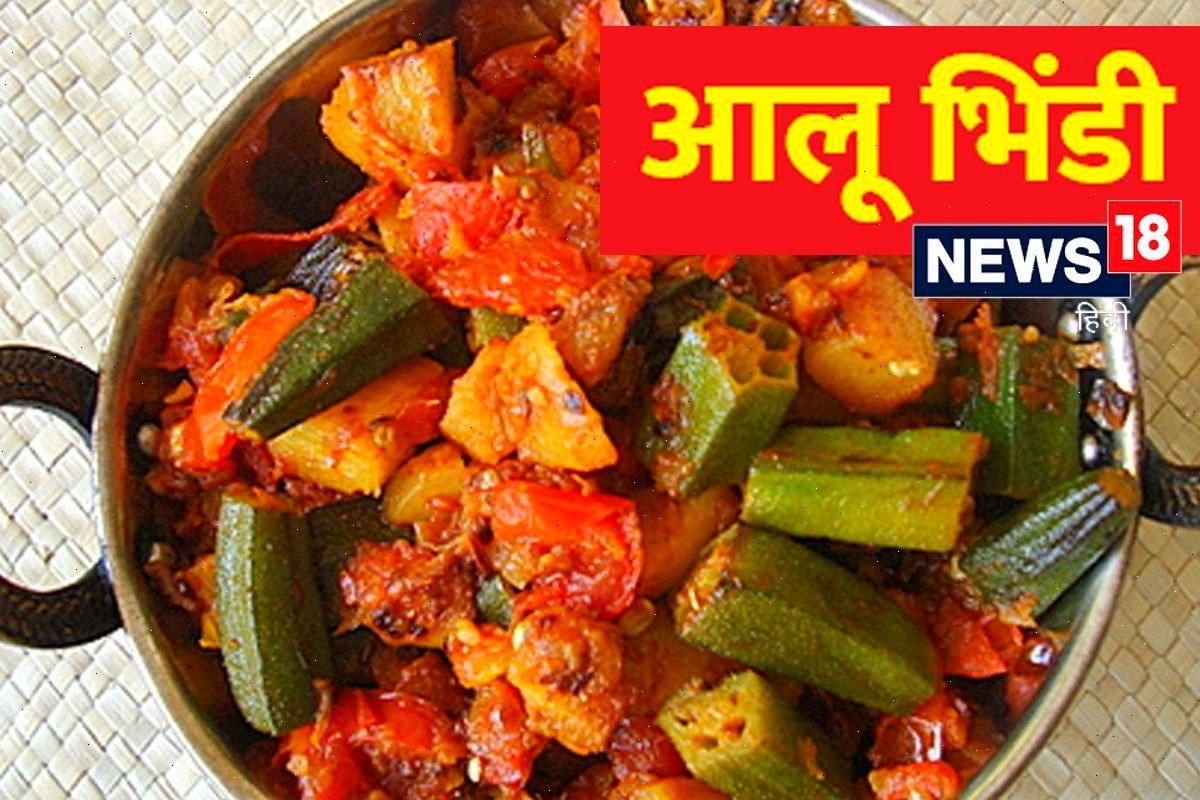bhindi: (229, 129, 1069, 763)
